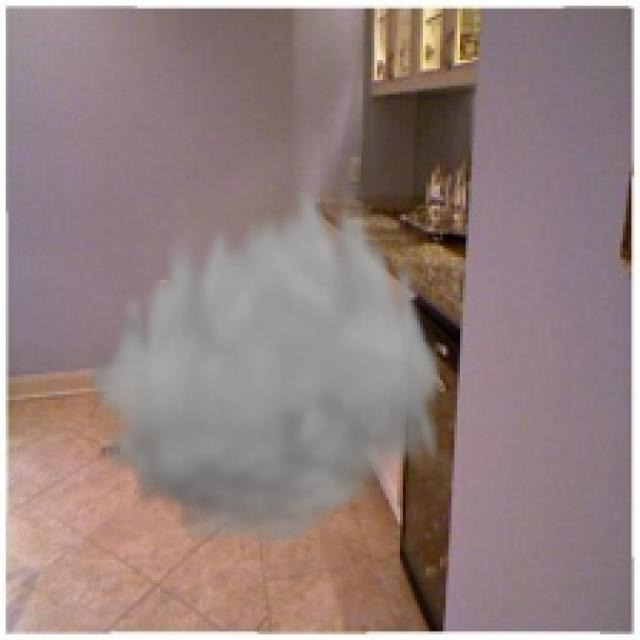Smoke: (83, 172, 446, 554)
